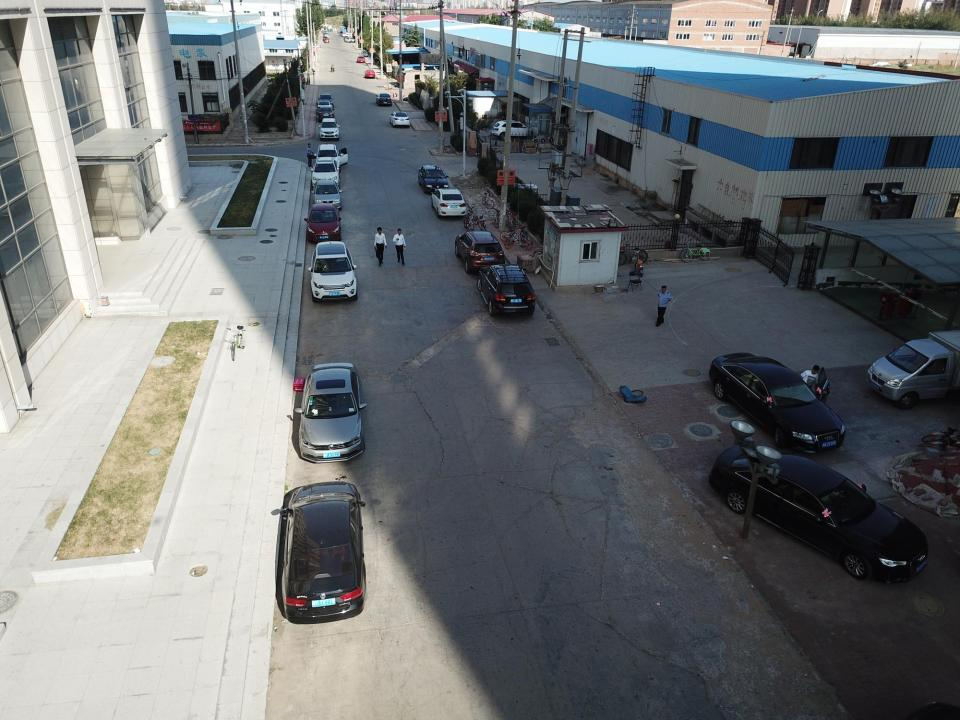car: (708, 444, 929, 584), (708, 352, 845, 455), (281, 482, 367, 625), (295, 362, 367, 463), (308, 240, 358, 303), (477, 264, 536, 316), (455, 231, 504, 273), (304, 203, 342, 245), (431, 188, 467, 218), (311, 179, 343, 210), (418, 163, 449, 194), (311, 157, 340, 189), (492, 120, 536, 140), (314, 144, 347, 168), (318, 118, 339, 138), (389, 111, 410, 128), (317, 107, 334, 121), (375, 93, 392, 107), (316, 101, 333, 113), (318, 94, 334, 105), (364, 69, 375, 78), (344, 38, 354, 43), (357, 56, 364, 62), (361, 51, 368, 57), (324, 38, 329, 43), (323, 30, 328, 34), (324, 34, 328, 38)
truck: (866, 328, 960, 408)
van: (342, 34, 352, 36)
